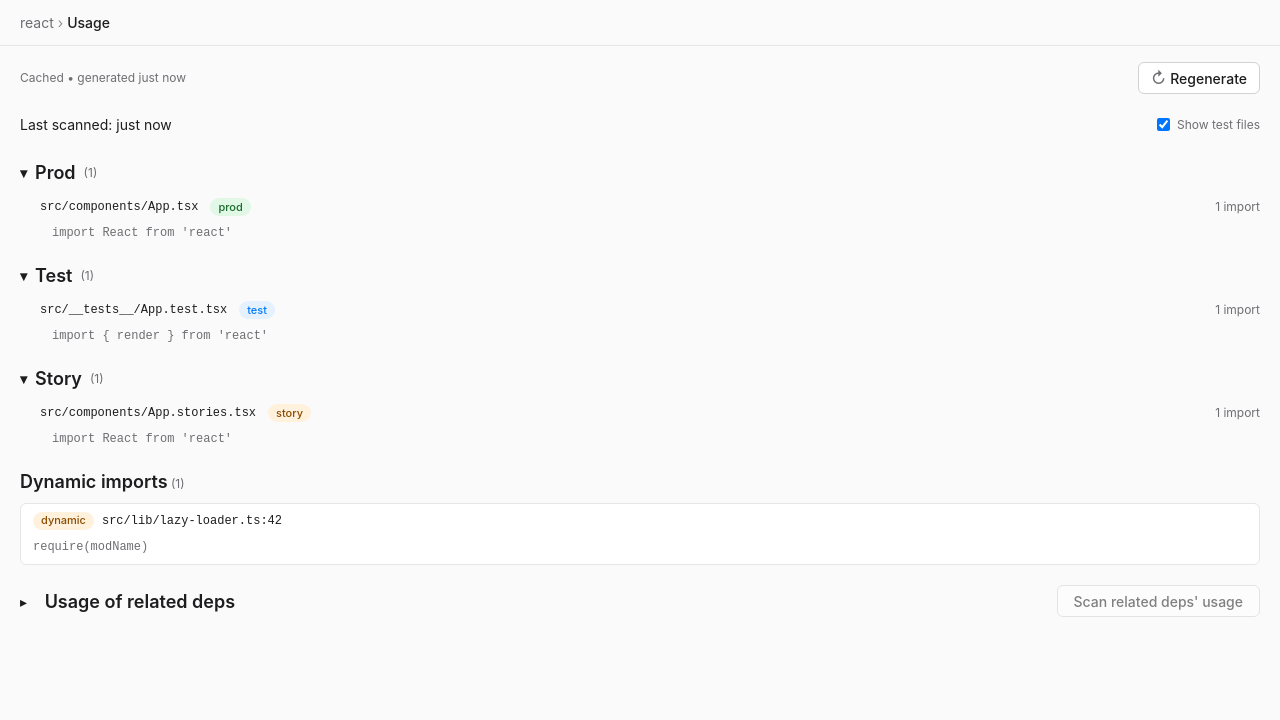
Scenario: UsageView (View [C]) › click on a file navigates to view [E] (Stage 3)
Click the button with test id "usage-file-a3f9c1".
click(119, 207)  # box [40, 198, 1260, 216]
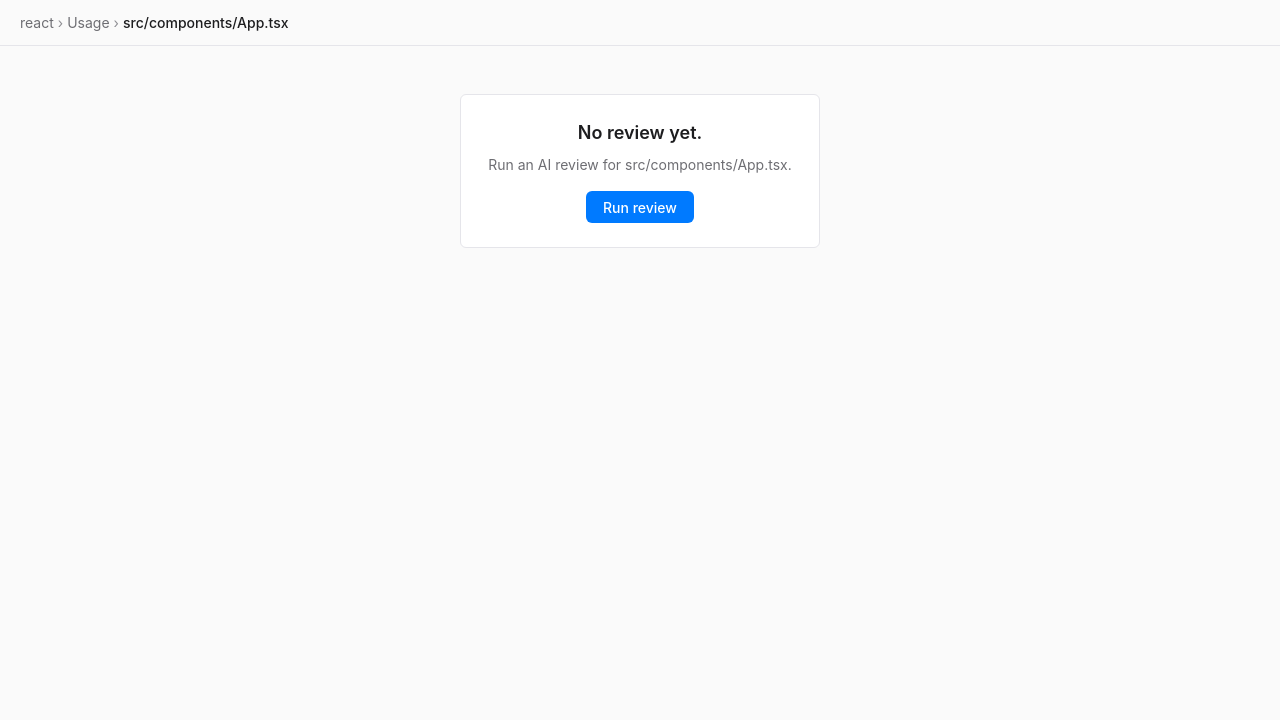
Result: the heading "No review yet." is shown at [578, 122, 702, 143]
